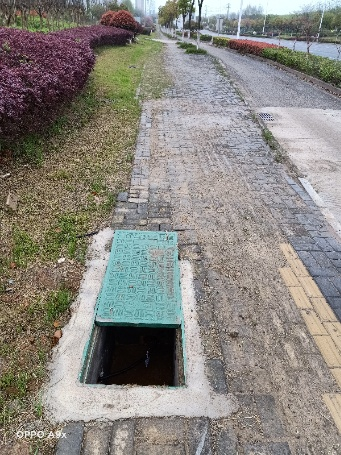well: (76, 230, 187, 390)
